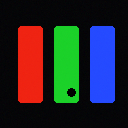0 point: (67, 88, 75, 96)
